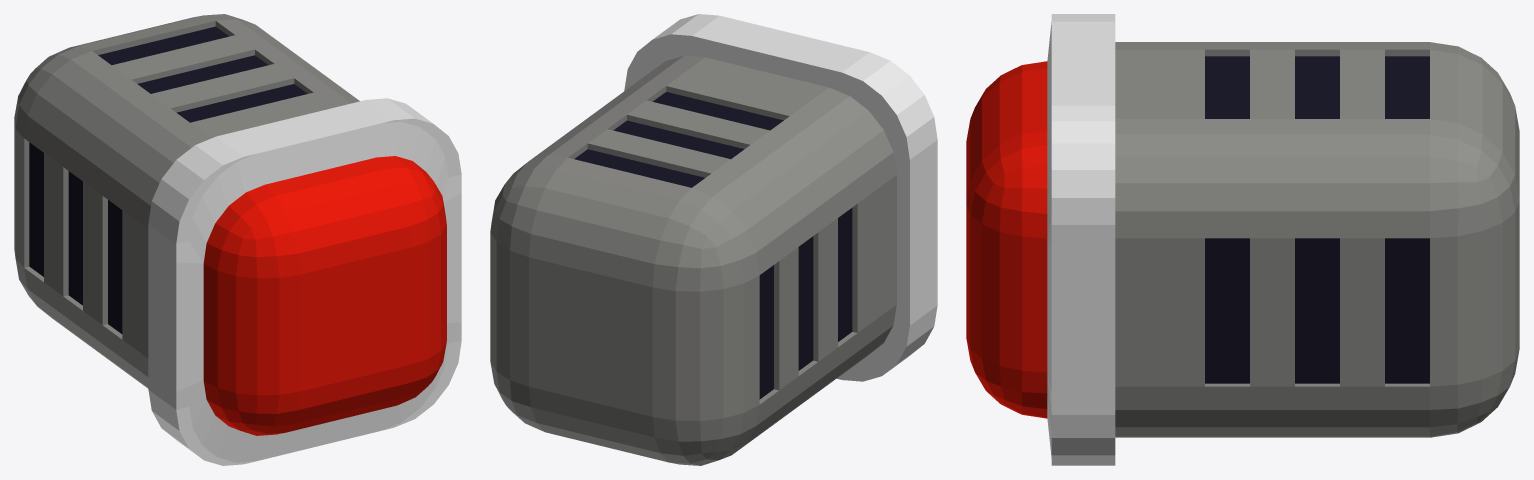
Rendered from LaserPoint.fbx.
The picture shows the model from 3 angles, left to right: view 1: azimuth 30°, elevation 25°; view 2: azimuth 150°, elevation 25°; view 3: azimuth 270°, elevation 25°; orthographic projection. The views are drawn at different scales.
Parts seen in each view (by area): view 1: Cube; view 2: Cube; view 3: Cube.
Part boxes in pixels (x1,y1,x2,y2): Cube: [14, 14, 461, 465]; Cube: [490, 14, 937, 465]; Cube: [966, 14, 1519, 465].
Size of the model in its own units: 220 by 227 by 322.
